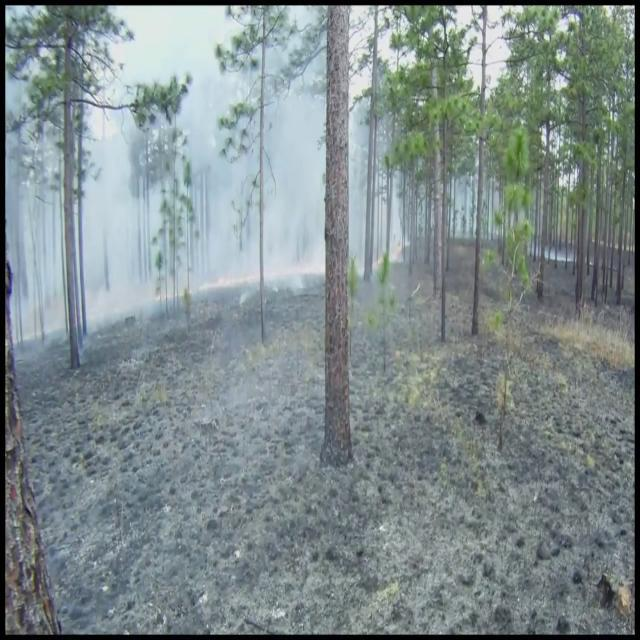Smoke: (6, 30, 414, 343)
